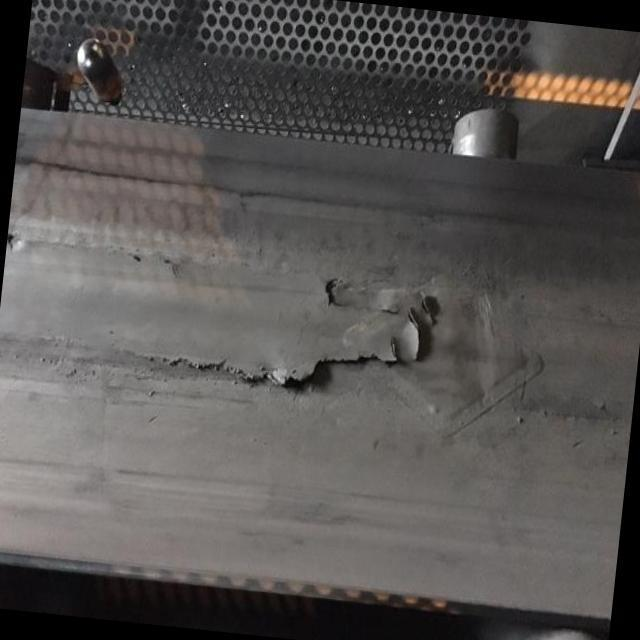Wear: (69, 201, 555, 434)
